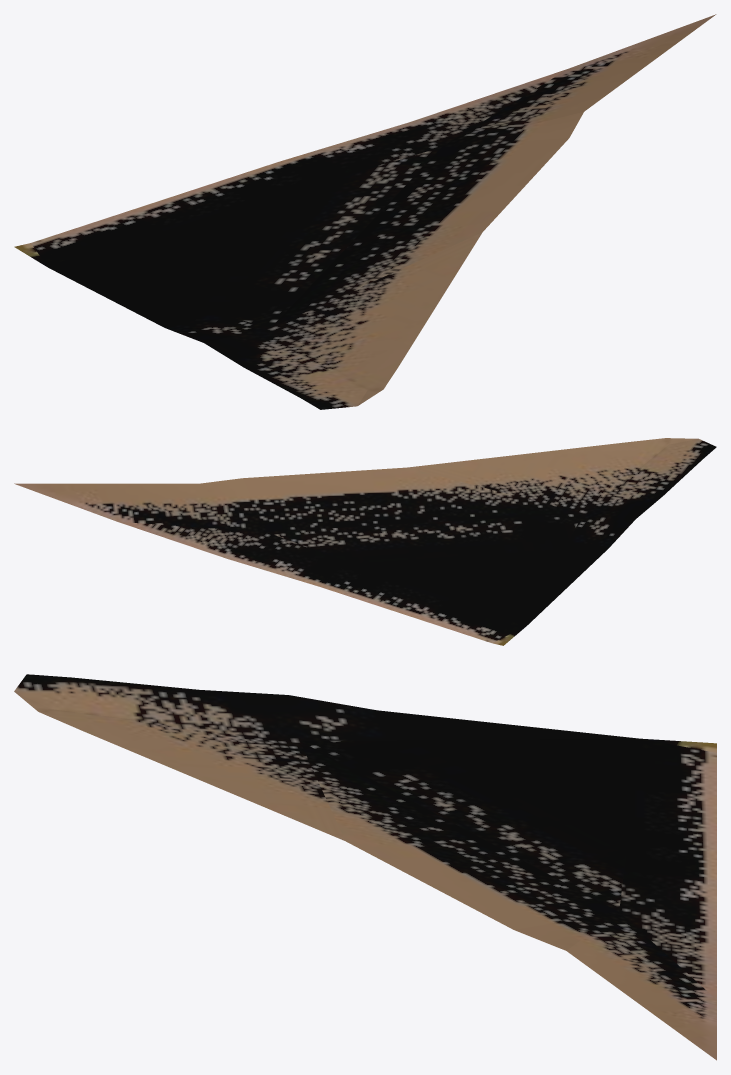
3 views of the same model, one above another, from view 1: azimuth 30°, elevation 25°; view 2: azimuth 150°, elevation 25°; view 3: azimuth 270°, elevation 25° (orthographic). The views are drawn at different scales.
Size of the model in its own units: 0.7875 by 0.0659 by 0.6056.
1 material, 1 textured.
